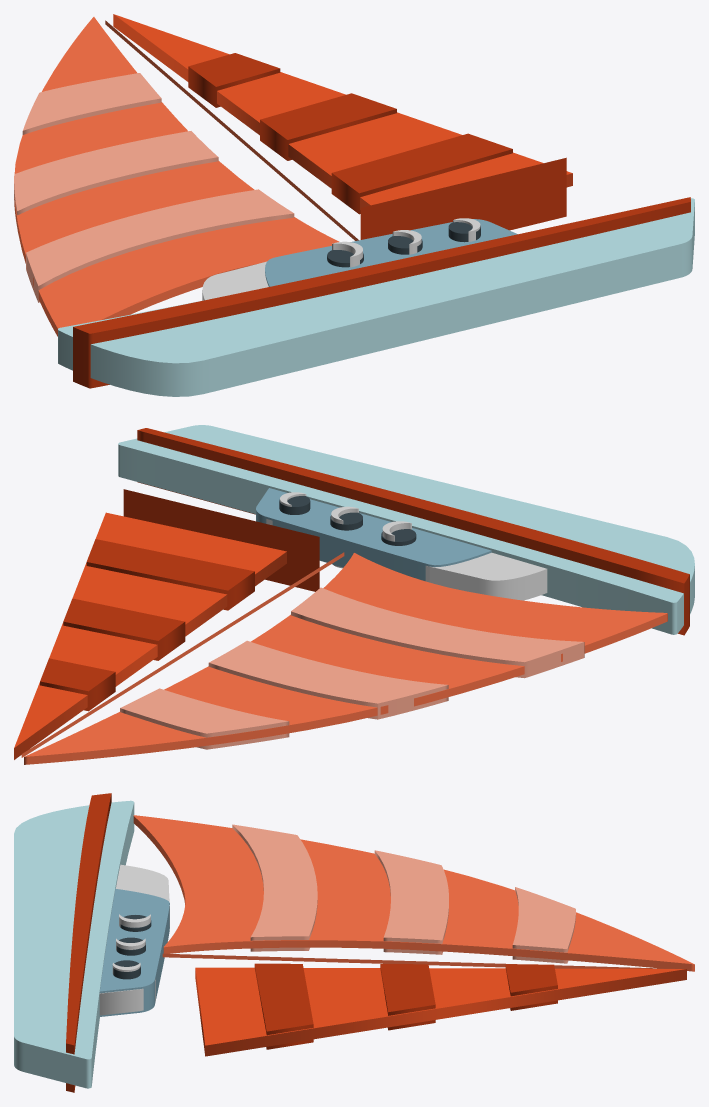
Rendered from emoji_u26f5.glb.
3 views of the same model, one above another, from view 1: azimuth 30°, elevation 25°; view 2: azimuth 150°, elevation 25°; view 3: azimuth 270°, elevation 25° (orthographic). The views are drawn at different scales.
Parts seen in each view (by area): view 1: emoji_u26f5; view 2: emoji_u26f5; view 3: emoji_u26f5.
Boxes of the visible parts, x1,y1,x2,y2 form: emoji_u26f5: (14,14,694,396); emoji_u26f5: (14,425,694,764); emoji_u26f5: (14,793,694,1092).
Size of the model in its own units: 0.0304 by 0.0028 by 0.0338.
